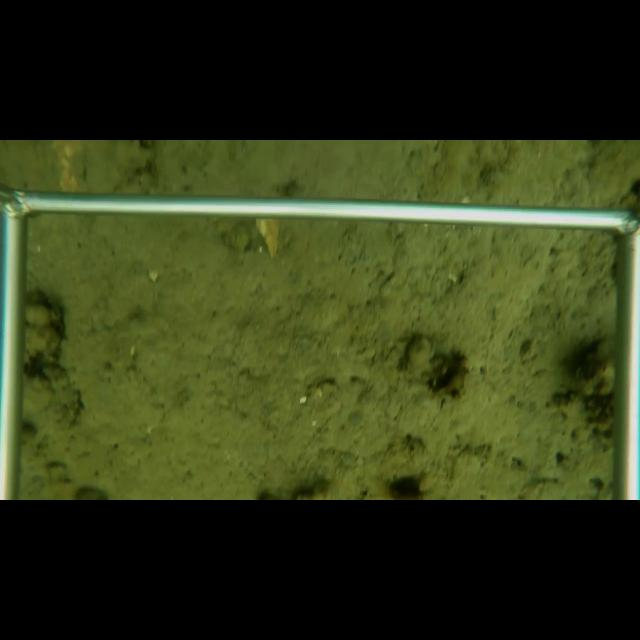Oyster-Closed: (43, 364, 84, 429)
